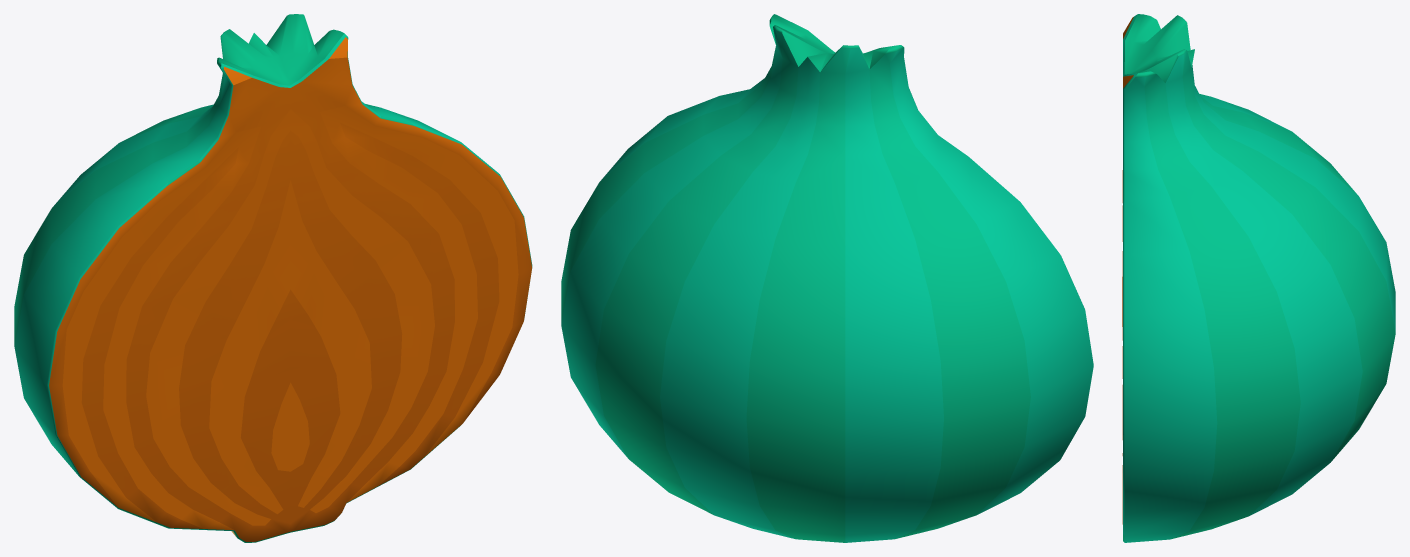
The model's file is Onion_half_03.fbx.
The picture shows the model from 3 angles, left to right: view 1: azimuth 30°, elevation 25°; view 2: azimuth 150°, elevation 25°; view 3: azimuth 270°, elevation 25°; orthographic projection. The views are drawn at different scales.
Parts seen in each view (by area): view 1: Onion_half_03; view 2: Onion_half_03; view 3: Onion_half_03.
Part boxes in pixels (<box>): Onion_half_03: <box>14,14,532,542</box>; Onion_half_03: <box>561,14,1093,542</box>; Onion_half_03: <box>1122,14,1395,542</box>.
Bounding box in the file's own units: 75.58 × 37.29 × 72.94.
